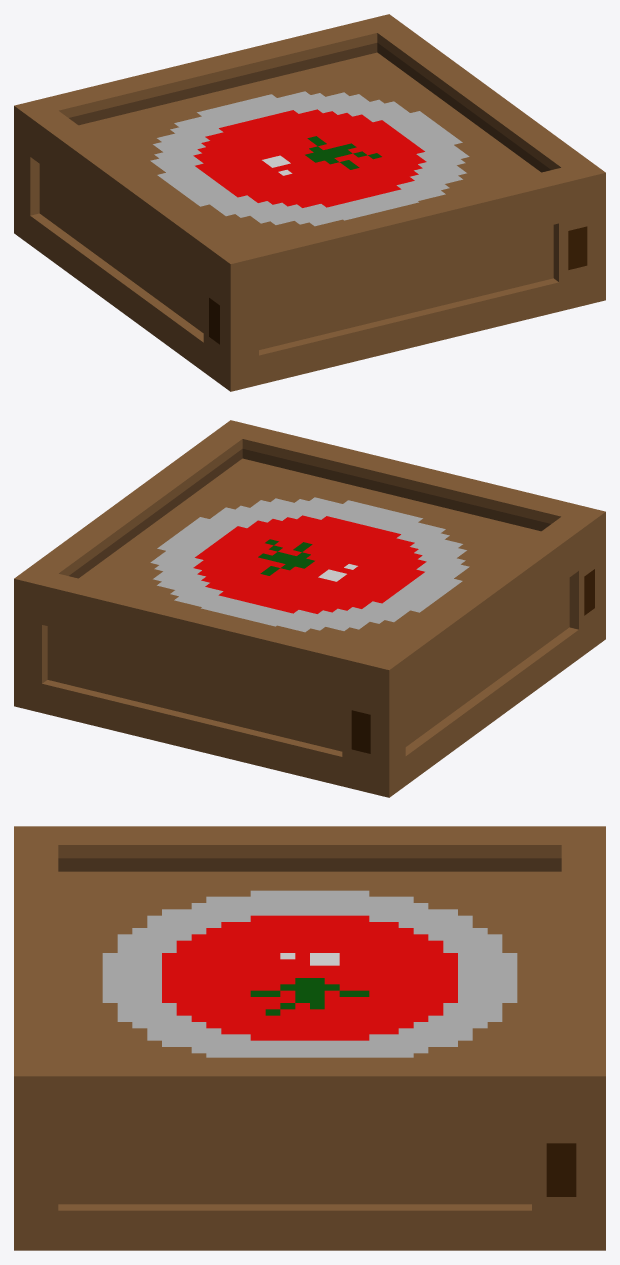
The model's file is FoodPickerTomatoe.obj.
3 renders of one model, top to bottom at view 1: azimuth 30°, elevation 25°; view 2: azimuth 150°, elevation 25°; view 3: azimuth 270°, elevation 25°, orthographic. The views are drawn at different scales.
Bounding box in the file's own units: 4 × 1.3 × 4.
Materials: 1 (1 with a texture image).
